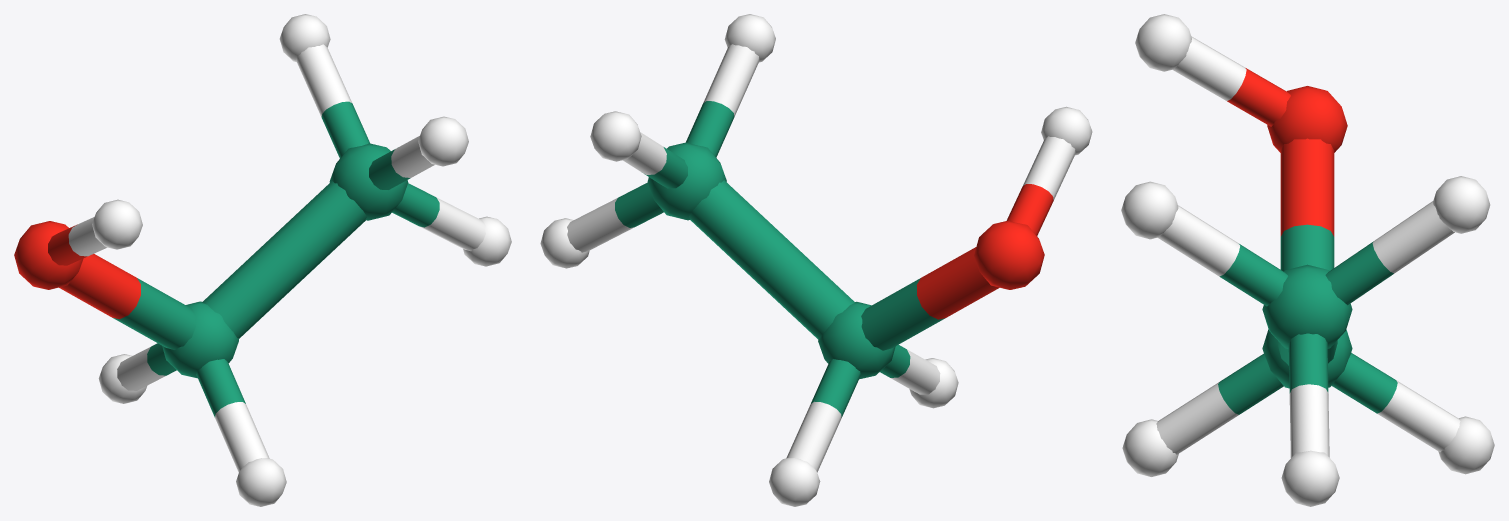
The model's file is pubchem-ethanol-xyz-default.obj.
3 views of the same model, side by side, from view 1: azimuth 30°, elevation 25°; view 2: azimuth 150°, elevation 25°; view 3: azimuth 270°, elevation 25° (orthographic). The views are drawn at different scales.
Size of the model in its own units: 3.67 by 2.47 by 2.11.
